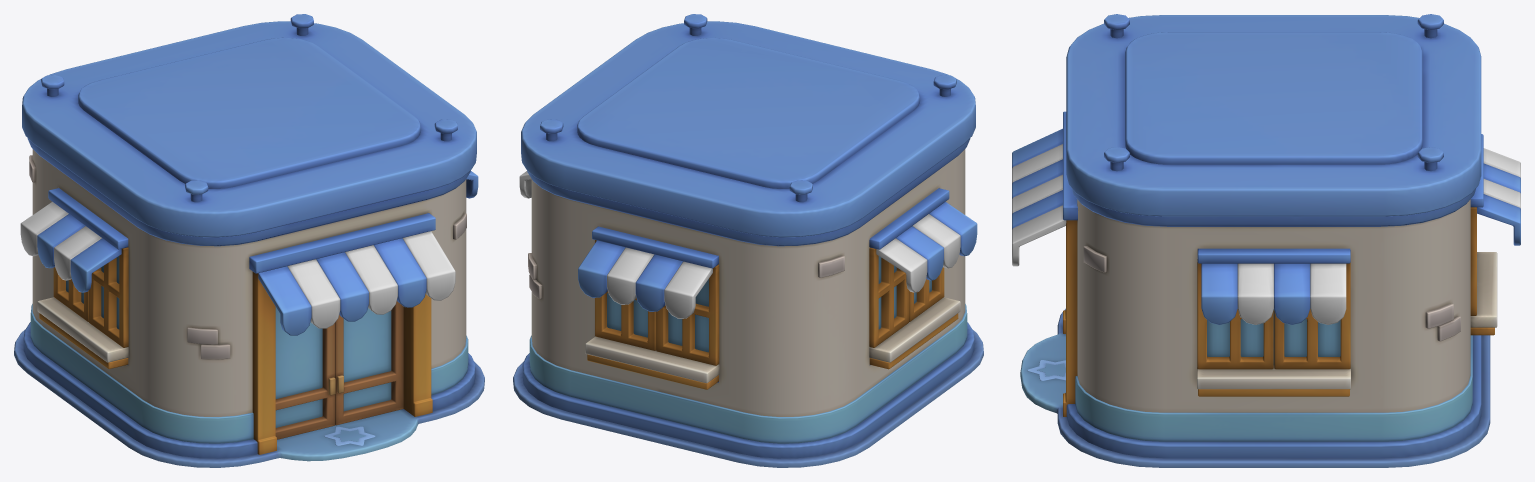
File: Store_01.fbx
The picture shows the model from 3 angles, left to right: view 1: azimuth 30°, elevation 25°; view 2: azimuth 150°, elevation 25°; view 3: azimuth 270°, elevation 25°; orthographic projection. The views are drawn at different scales.
Visible parts, largest first — view 1: Store_01; view 2: Store_01; view 3: Store_01.
Boxes of the visible parts, x1,y1,x2,y2 form: Store_01: (14,14,484,467); Store_01: (513,14,983,467); Store_01: (1012,14,1520,467).
Size of the model in its own units: 1131 by 735 by 1165.
